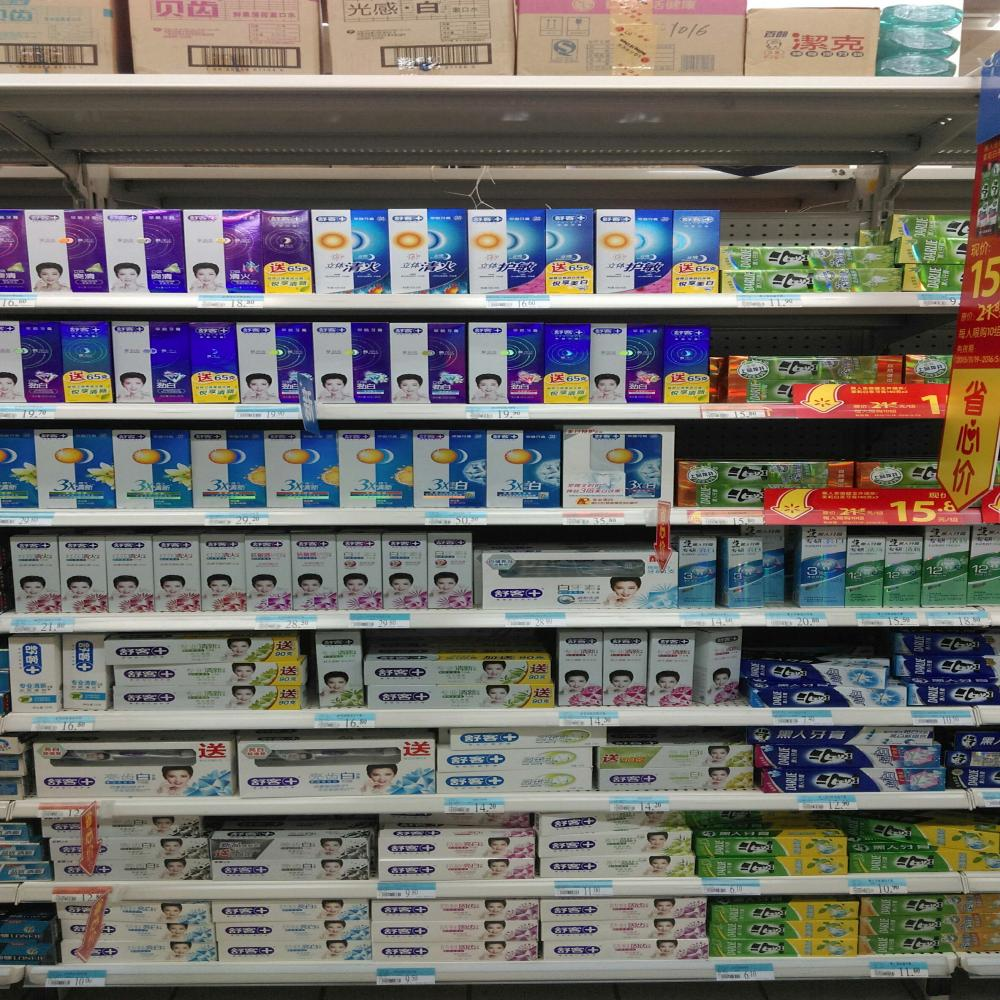shelf: (0, 703, 1000, 734), (0, 787, 1000, 818), (0, 871, 1000, 902), (0, 952, 1000, 983), (0, 604, 1000, 631), (0, 402, 1000, 420), (0, 509, 1000, 527), (0, 291, 1000, 307)
